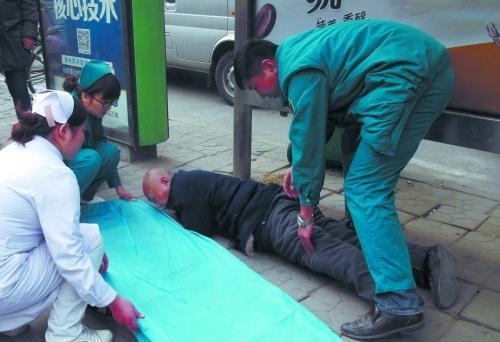Fall-Detected: (125, 158, 472, 322)
